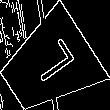L_SW: (21, 39, 76, 92)
